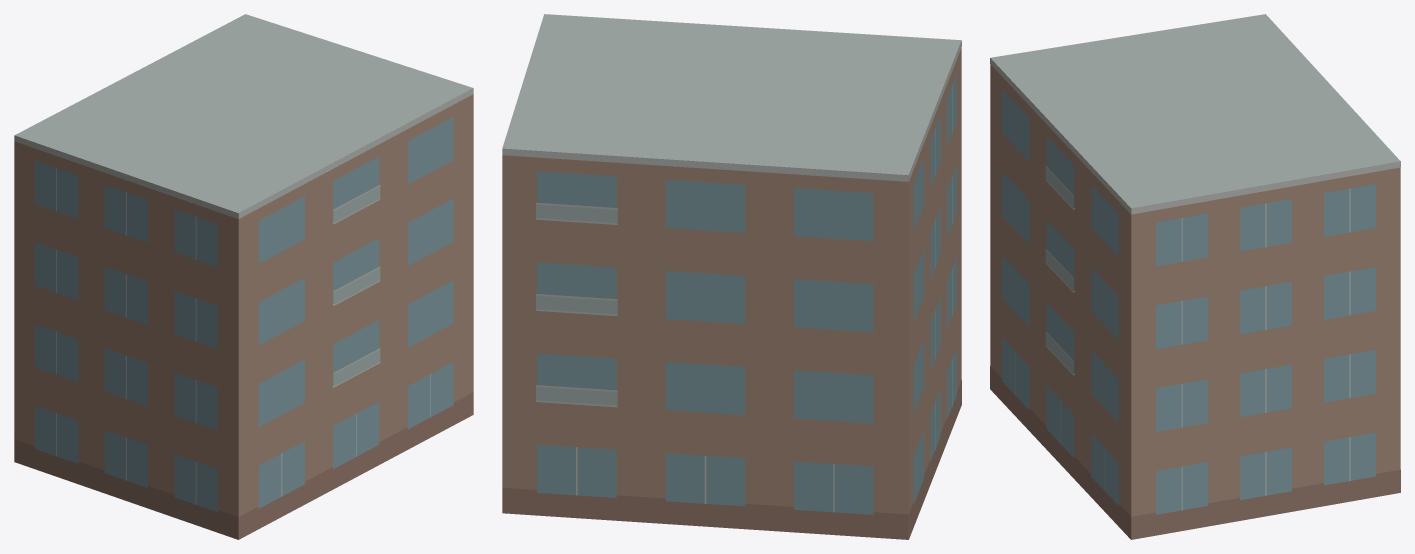
The model's file is survey-upis-32730940.glb.
3 views of the same model, side by side, from view 1: azimuth 30°, elevation 25°; view 2: azimuth 150°, elevation 25°; view 3: azimuth 270°, elevation 25° (orthographic). The views are drawn at different scales.
Visible parts, largest first — view 1: survey-upis-32730940.tmp; view 2: survey-upis-32730940.tmp; view 3: survey-upis-32730940.tmp.
Boxes of the visible parts, left/top/right/bottom form: survey-upis-32730940.tmp: left=14, top=14, right=473, bottom=539; survey-upis-32730940.tmp: left=502, top=14, right=961, bottom=539; survey-upis-32730940.tmp: left=990, top=14, right=1400, bottom=539.
Bounding box in the file's own units: 16.75 × 13.3 × 14.95.
